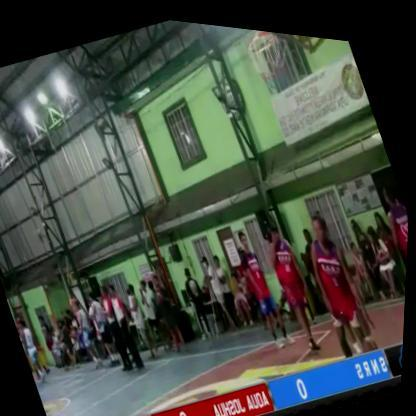basketball: (356, 307, 388, 353)
rim: (230, 22, 312, 116)
